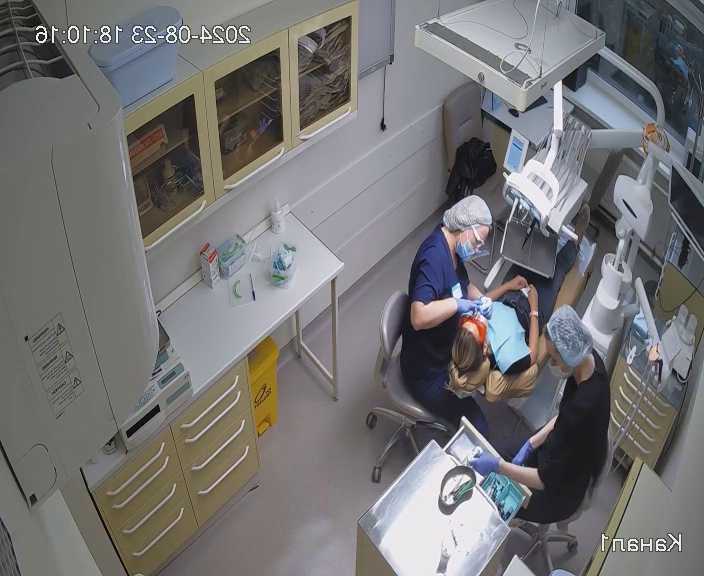Patient: (450, 219, 601, 402)
